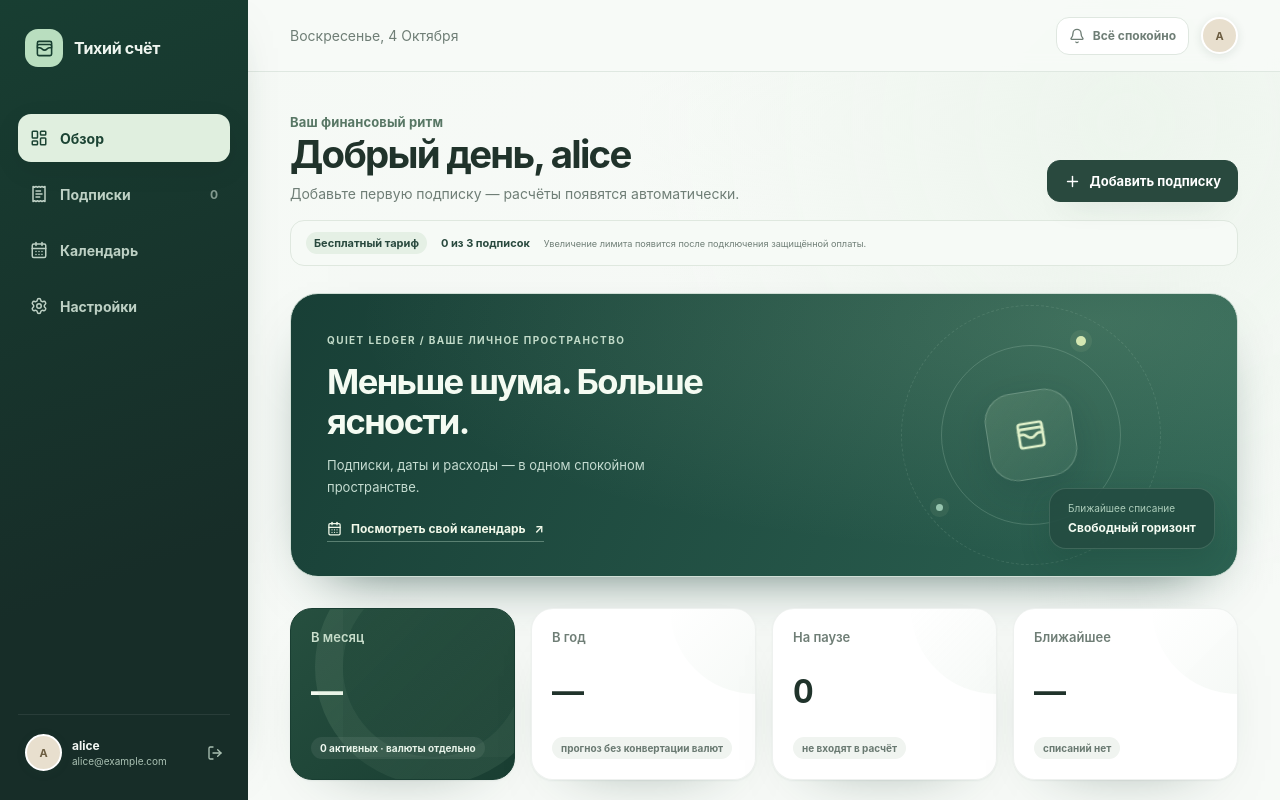
Scenario: settings disclose that Gmail access is unavailable until separate consent and review
Click the button "Настройки" at (124, 306), box [18,282,230,330]
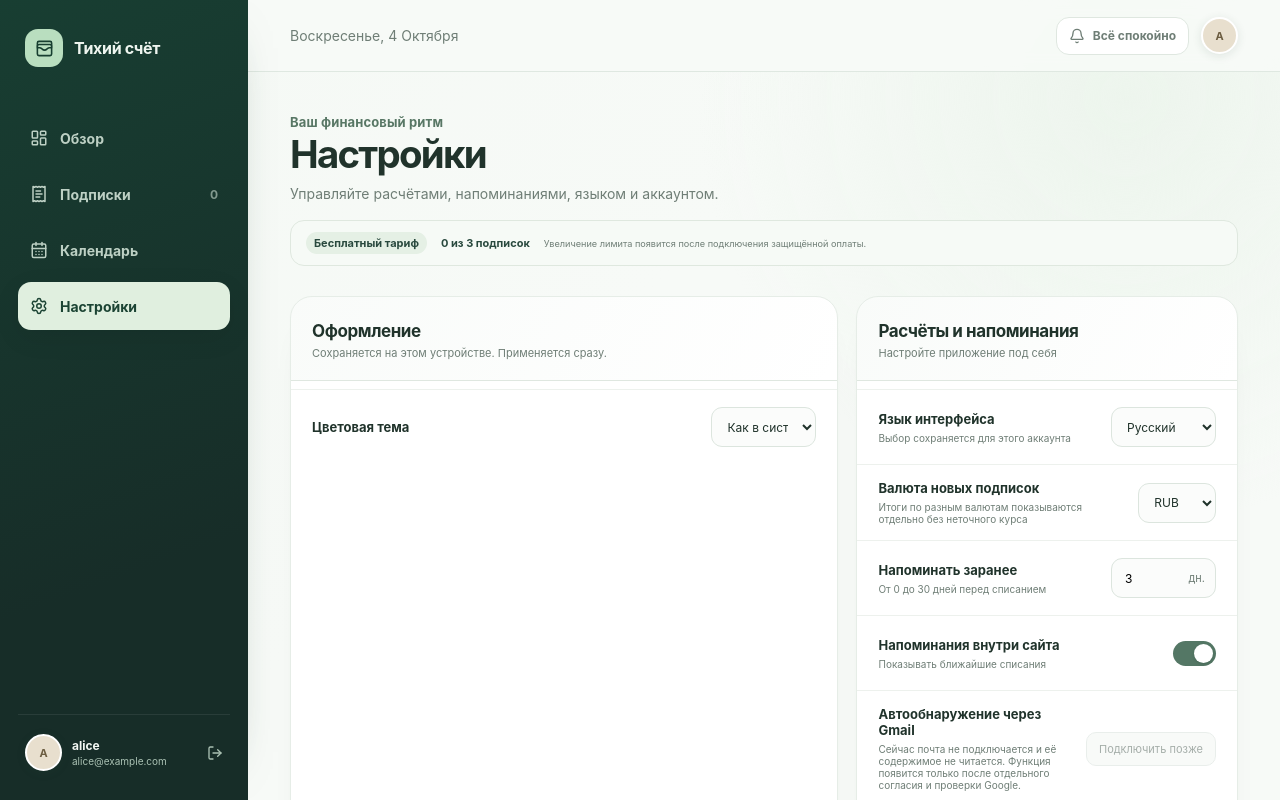
Result: the text "Автообнаружение через Gmail" is shown at [878,706,1062,738]
Result: the text "почта не подключается и её содержимое не читается" is shown at [878,744,1056,792]
Result: the button "Подключить позже" is disabled at [1086,732,1216,766]
